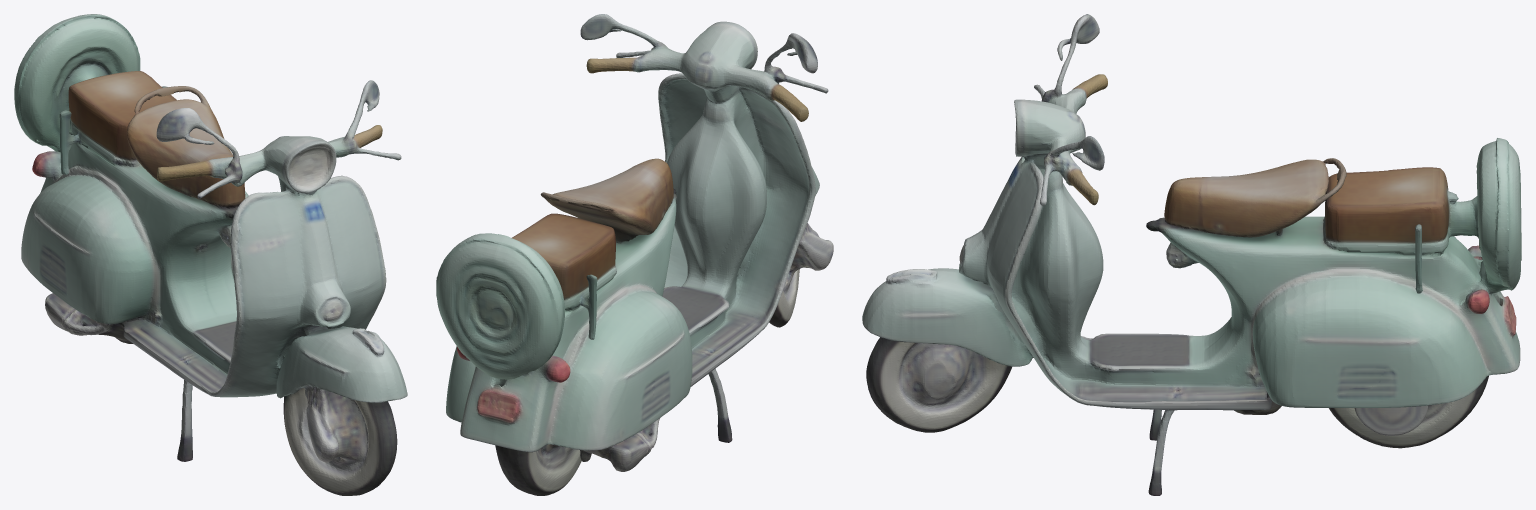
The picture shows the model from 3 angles, left to right: view 1: azimuth 30°, elevation 25°; view 2: azimuth 150°, elevation 25°; view 3: azimuth 270°, elevation 25°; orthographic projection. The views are drawn at different scales.
Parts seen in each view (by area): view 1: geometry_0; view 2: geometry_0; view 3: geometry_0.
Boxes of the visible parts, x1,y1,x2,y2 form: geometry_0: (14,14,407,495); geometry_0: (436,14,833,495); geometry_0: (862,14,1521,495).
Size of the model in its own units: 0.417 by 0.6725 by 0.9972.
